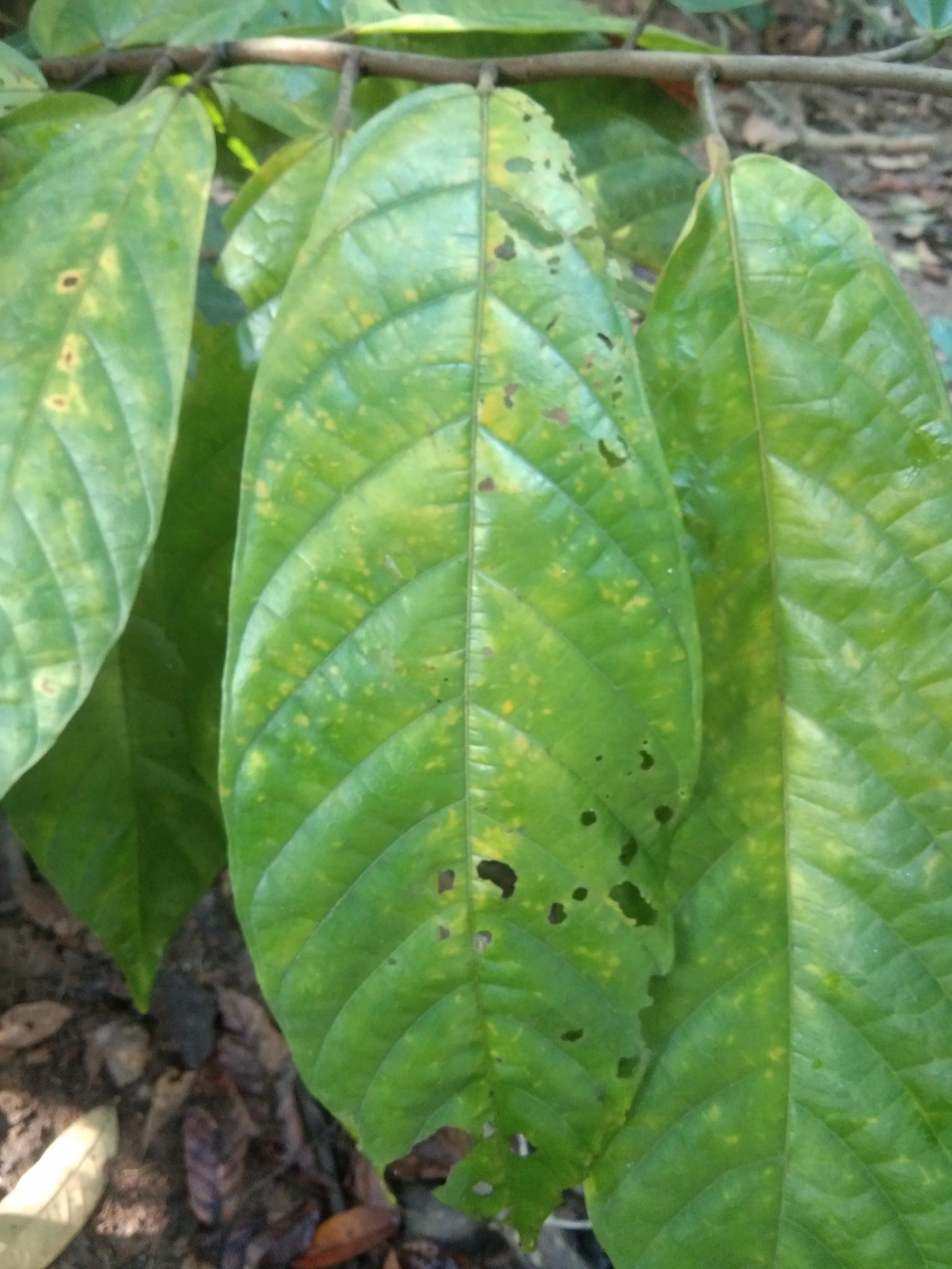Fosforo: (235, 88, 696, 1208), (0, 89, 215, 793)
